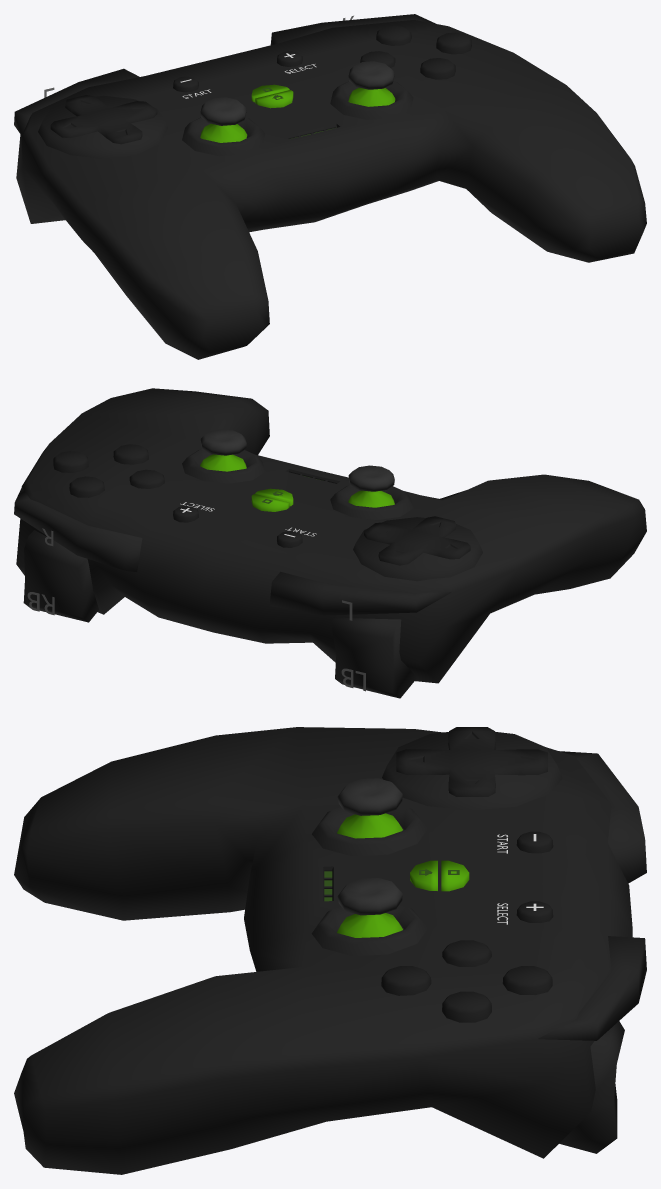
The model's file is Controller.glb.
3 renders of one model, top to bottom at view 1: azimuth 30°, elevation 25°; view 2: azimuth 150°, elevation 25°; view 3: azimuth 270°, elevation 25°, orthographic. The views are drawn at different scales.
Visible parts, largest first — view 1: Controller.Body, Controller.Sticks, Controller.DPad, Controller.Tops, Controller.Button.Middle, Controller.Button.B, Controller.Button.A, Controller.Button.Y; view 2: Controller.Body, Controller.Backs, Controller.Tops, Controller.DPad, Controller.Sticks, Controller.Button.Middle, Controller.Button.B, Controller.Button.Y, Controller.Button.A, Controller.Button.X; view 3: Controller.Body, Controller.Sticks, Controller.DPad, Controller.Tops, Controller.Backs, Controller.Button.Middle, Controller.Button.B, Controller.Button.A, Controller.Button.Y, Controller.Button.X, Controller.Button.Select, Controller.Button.Start.
Boxes of the visible parts, bbox=[...] form: Controller.Body: bbox=[16, 20, 646, 359]; Controller.Sticks: bbox=[182, 61, 413, 156]; Controller.DPad: bbox=[38, 95, 167, 159]; Controller.Tops: bbox=[14, 14, 435, 135]; Controller.Button.Middle: bbox=[251, 84, 293, 108]; Controller.Button.B: bbox=[436, 32, 471, 54]; Controller.Button.A: bbox=[420, 58, 455, 79]; Controller.Button.Y: bbox=[376, 25, 411, 45]; Controller.Body: bbox=[16, 388, 646, 683]; Controller.Backs: bbox=[23, 530, 416, 698]; Controller.Tops: bbox=[14, 487, 451, 615]; Controller.DPad: bbox=[353, 516, 482, 581]; Controller.Sticks: bbox=[182, 429, 413, 519]; Controller.Button.Middle: bbox=[251, 488, 293, 511]; Controller.Button.B: bbox=[53, 451, 88, 472]; Controller.Button.Y: bbox=[69, 476, 104, 497]; Controller.Button.A: bbox=[113, 444, 148, 464]; Controller.Button.X: bbox=[129, 469, 164, 488]; Controller.Body: bbox=[14, 727, 632, 1174]; Controller.Sticks: bbox=[311, 778, 427, 955]; Controller.DPad: bbox=[382, 727, 562, 810]; Controller.Tops: bbox=[538, 751, 646, 1040]; Controller.Backs: bbox=[559, 1021, 624, 1153]; Controller.Button.Middle: bbox=[410, 860, 469, 891]; Controller.Button.B: bbox=[442, 991, 491, 1022]; Controller.Button.A: bbox=[381, 966, 431, 995]; Controller.Button.Y: bbox=[502, 966, 552, 995]; Controller.Button.X: bbox=[442, 940, 491, 966]; Controller.Button.Select: bbox=[516, 831, 553, 853]; Controller.Button.Start: bbox=[516, 901, 553, 922].
Bounding box in the file's own units: 10.35 × 2.77 × 8.29.
